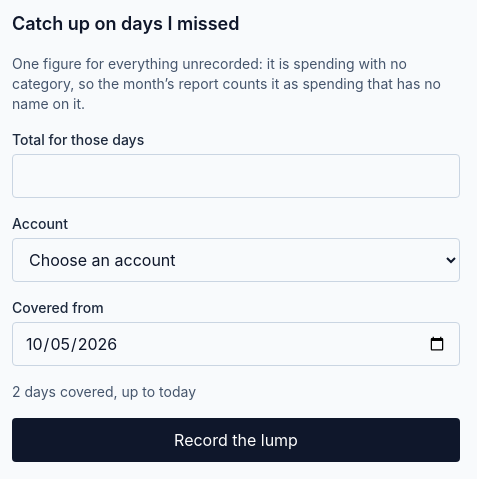
Scenario: CatchUpForm › counts the days as the dates change
Type "2026-10-02" into the date field labelled "Covered from" at (236, 344), box [12,322,460,366]
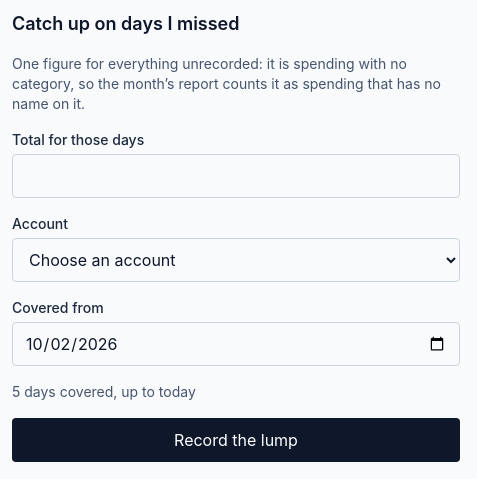
expect the message reads "5 days covered, up to today": met, box [12,383,196,400]
